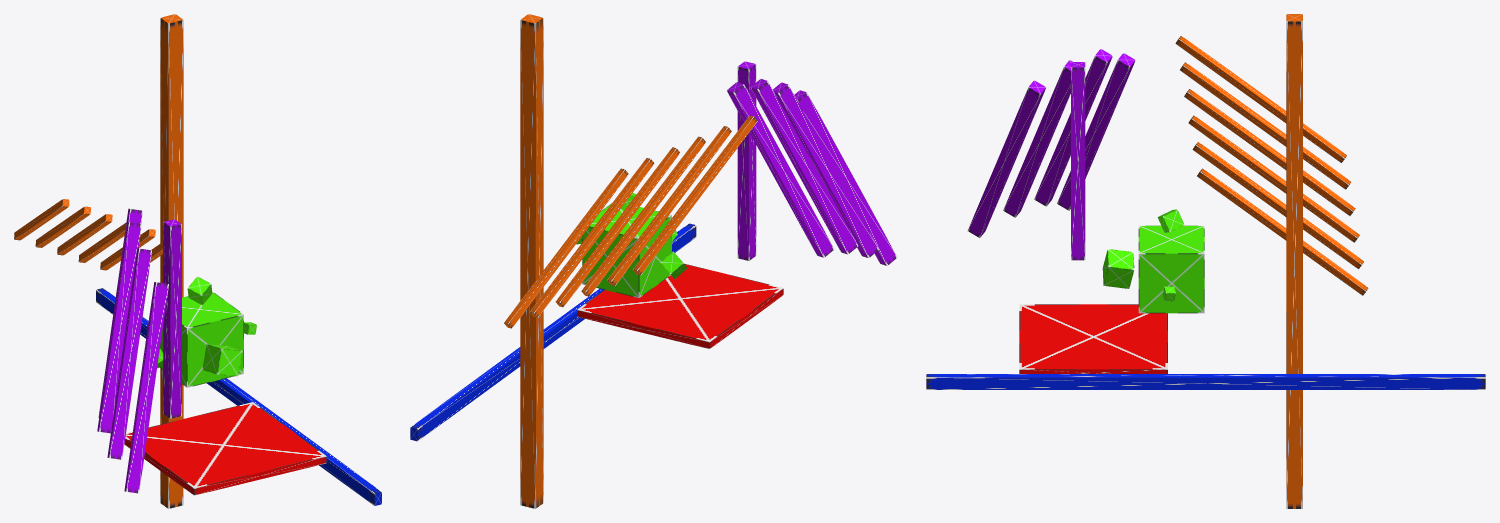
The model's file is deccer.gltf.
3 views of the same model, side by side, from view 1: azimuth 30°, elevation 25°; view 2: azimuth 150°, elevation 25°; view 3: azimuth 270°, elevation 25° (orthographic).
Visible parts, largest first — view 1: Cube.004, Cube.002, Cube, Cube.003, Cube.018, Cube.017, Cube.016, Cube.001, Cube.013, Cube.009, Cube.010, Cube.011 (+4 smaller); view 2: Cube.002, Cube.004, Cube.016, Cube.015, Cube.001, Cube.017, Cube, Cube.003, Cube.018, Cube.010, Cube.008, Cube.007 (+3 smaller); view 3: Cube.004, Cube.001, Cube.002, Cube, Cube.003, Cube.018, Cube.017, Cube.015, Cube.016, Cube.006, Cube.007, Cube.008 (+4 smaller).
Boxes of the visible parts, x1,y1,x2,y2 form: Cube.004: [124, 402, 326, 495]; Cube.002: [160, 14, 183, 508]; Cube: [159, 291, 243, 387]; Cube.003: [163, 219, 181, 418]; Cube.018: [124, 282, 168, 493]; Cube.017: [107, 248, 151, 459]; Cube.016: [97, 222, 141, 433]; Cube.001: [96, 288, 381, 505]; Cube.013: [202, 344, 242, 376]; Cube.009: [57, 214, 112, 255]; Cube.010: [35, 206, 90, 247]; Cube.011: [14, 199, 69, 240]; Cube.002: [520, 14, 543, 508]; Cube.004: [577, 264, 783, 348]; Cube.016: [750, 79, 858, 254]; Cube.015: [726, 82, 834, 257]; Cube.001: [410, 223, 696, 441]; Cube.017: [773, 82, 878, 258]; Cube: [582, 203, 671, 297]; Cube.003: [737, 61, 756, 260]; Cube.018: [794, 90, 897, 265]; Cube.010: [607, 126, 731, 285]; Cube.008: [555, 147, 680, 307]; Cube.007: [529, 158, 654, 317]; Cube.004: [1019, 304, 1167, 373]; Cube.001: [926, 374, 1485, 389]; Cube.002: [1286, 14, 1302, 508]; Cube: [1138, 225, 1204, 313]; Cube.003: [1071, 62, 1085, 260]; Cube.018: [967, 80, 1046, 237]; Cube.017: [1003, 60, 1072, 217]; Cube.015: [1057, 53, 1135, 210]; Cube.016: [1034, 48, 1112, 206]; Cube.006: [1197, 168, 1368, 295]; Cube.007: [1192, 141, 1364, 269]; Cube.008: [1188, 115, 1359, 242].
Size of the model in its own units: 8.16 by 16.3 by 16.96.
5 materials, 5 textured.
